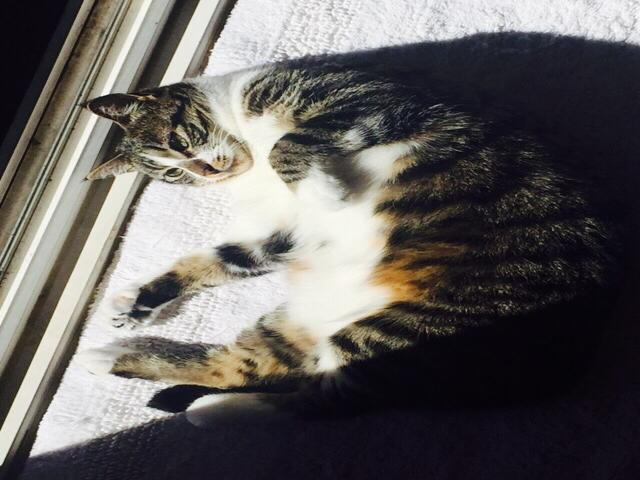playdoh: (75, 65, 611, 434)
